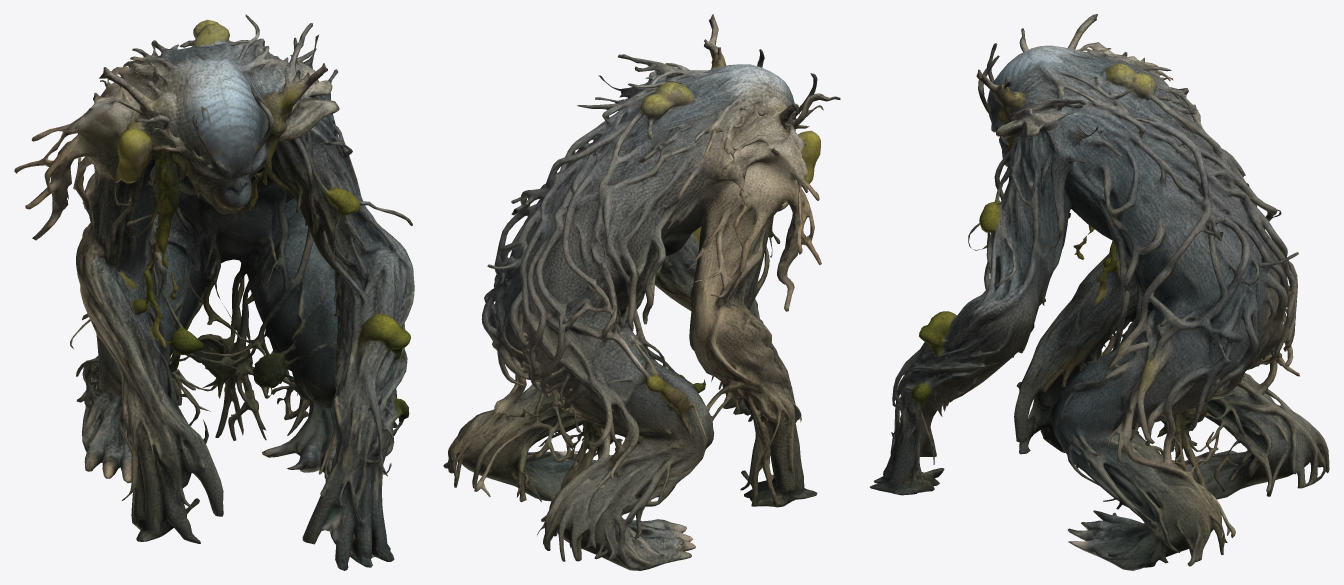
Rendered from sou5.glb.
3 views of the same model, side by side, from view 1: azimuth 30°, elevation 25°; view 2: azimuth 150°, elevation 25°; view 3: azimuth 270°, elevation 25° (orthographic). The views are drawn at different scales.
Bounding box in the file's own units: 0.6271 × 0.7403 × 0.706.
Materials: 1 (1 with a texture image).
